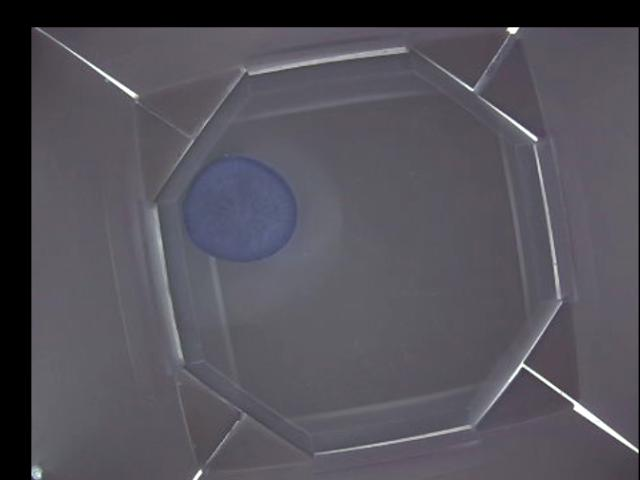Mooli: (181, 157, 297, 264)
